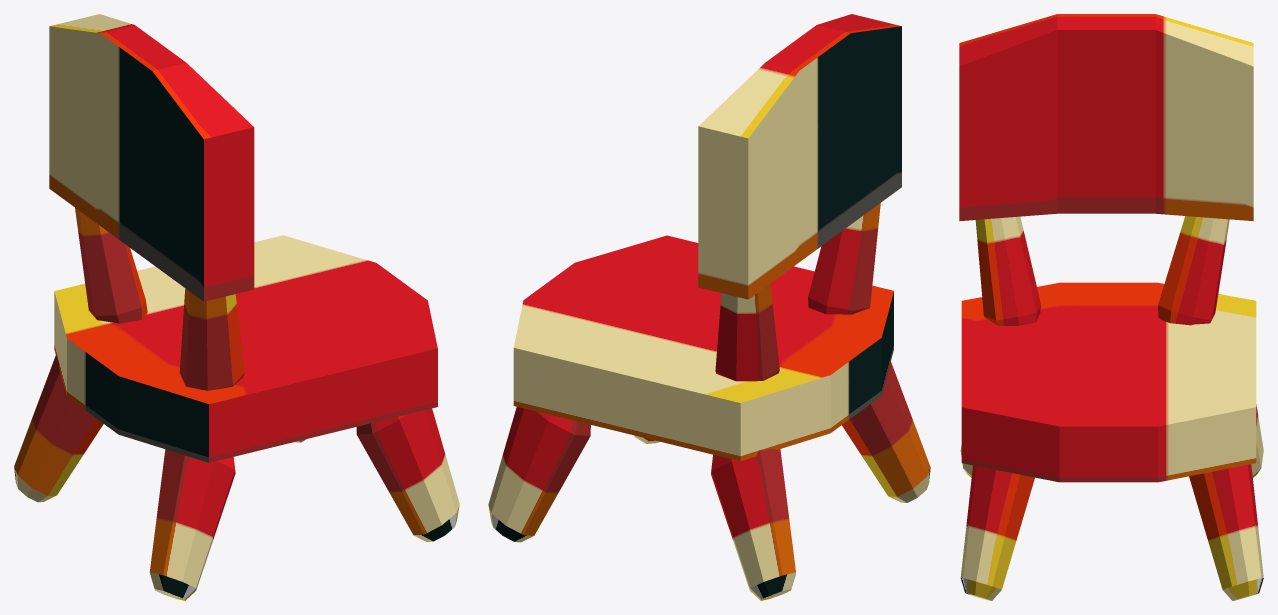
File: chair-red.fbx
The picture shows the model from 3 angles, left to right: view 1: azimuth 30°, elevation 25°; view 2: azimuth 150°, elevation 25°; view 3: azimuth 270°, elevation 25°; orthographic projection. The views are drawn at different scales.
Parts seen in each view (by area): view 1: chair; view 2: chair; view 3: chair.
Boxes of the visible parts, x1,y1,x2,y2 form: chair: (14, 14, 459, 600); chair: (488, 14, 930, 600); chair: (959, 14, 1263, 600).
Bounding box in the file's own units: 237 × 356 × 207.
